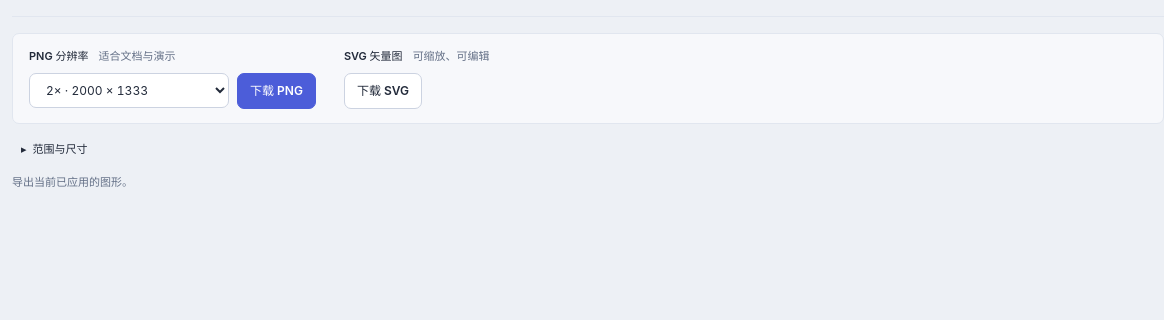
export controls › shows the custom dimensions instead of an inactive PNG scale
Click the button "▸ 范围与尺寸" at (54, 150), box [12, 134, 96, 166]
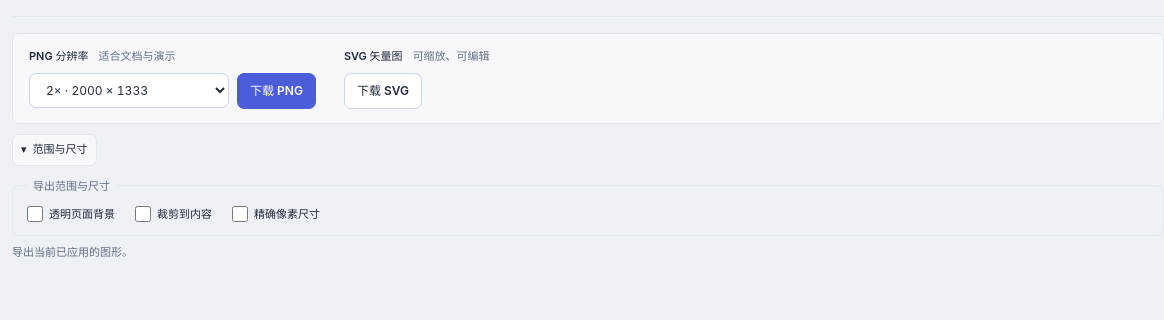
Click the checkbox labelled "精确像素尺寸" at (240, 214), box [232, 206, 248, 222]
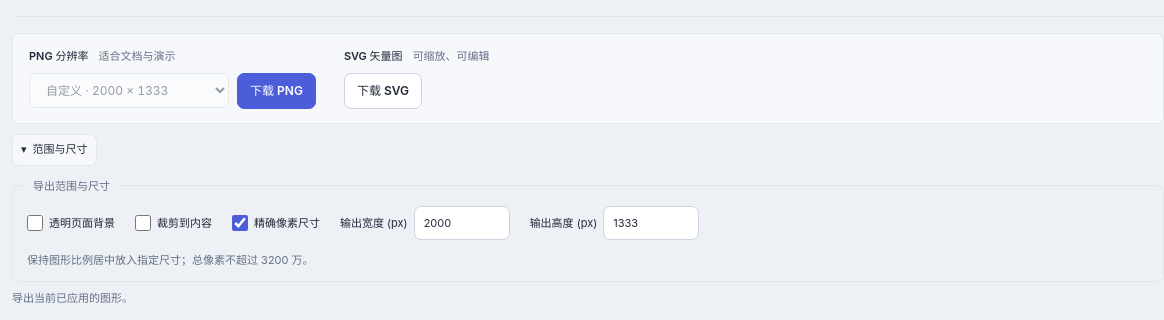
Replace the text in the number field labelled "输出宽度 (px)" with "2400" at (462, 223), box [414, 206, 510, 240]
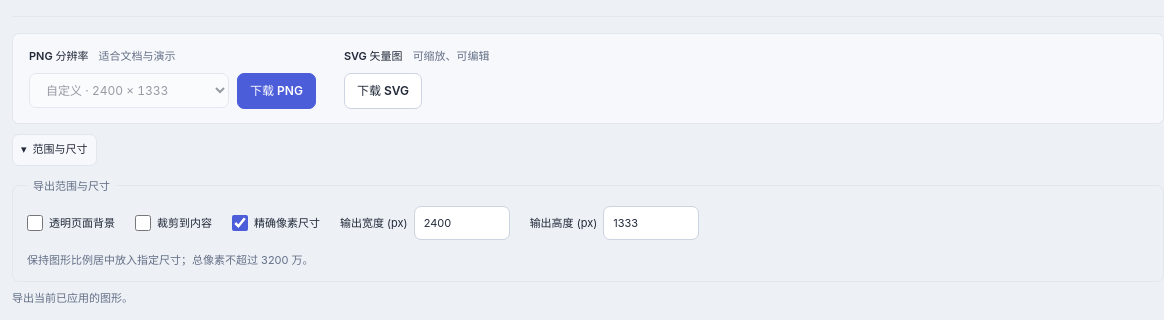
Check: the dropdown labelled "PNG 分辨率" is disabled, box [29, 73, 229, 108]
Click the checkbox labelled "精确像素尺寸" at (240, 223), box [232, 215, 248, 231]
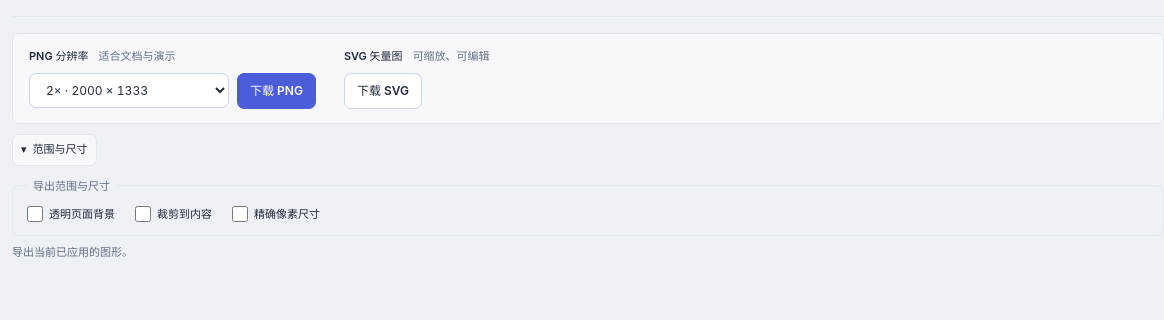
Check: the dropdown labelled "PNG 分辨率" is enabled, box [29, 73, 229, 108]
